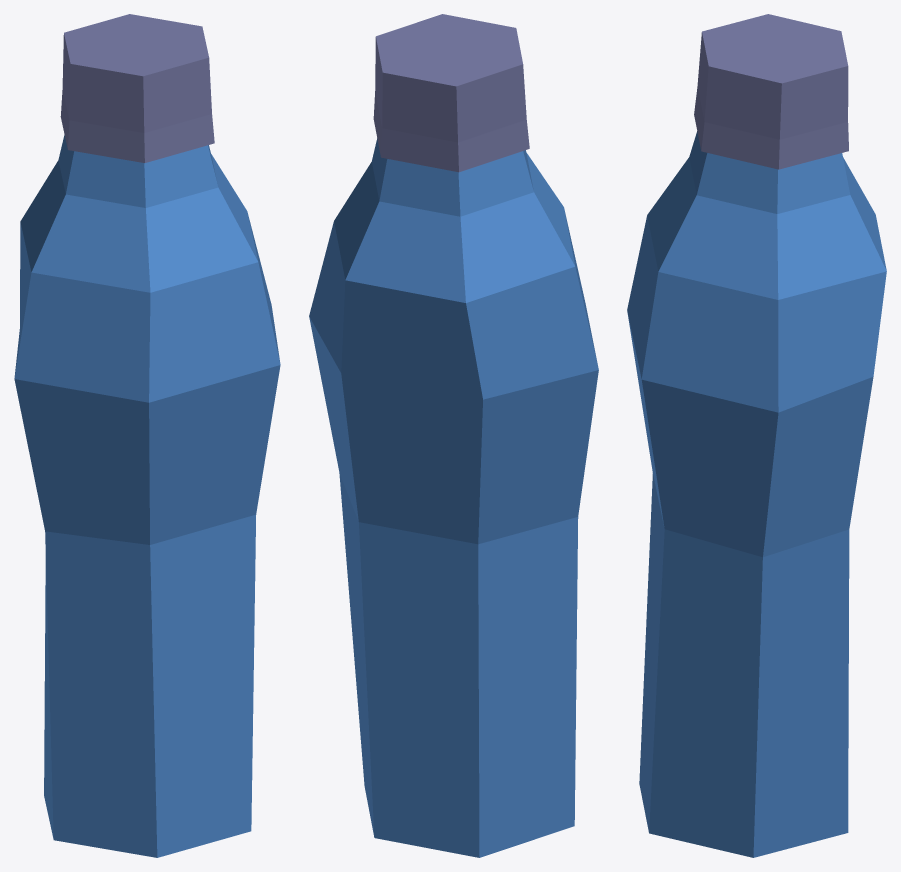
File: Bottle_15.fbx
3 views of the same model, side by side, from view 1: azimuth 30°, elevation 25°; view 2: azimuth 150°, elevation 25°; view 3: azimuth 270°, elevation 25° (orthographic).
Visible parts, largest first — view 1: Bottle_15; view 2: Bottle_15; view 3: Bottle_15.
Part boxes in pixels (<box>): Bottle_15: <box>14,14,280,857</box>; Bottle_15: <box>309,14,598,857</box>; Bottle_15: <box>627,14,886,857</box>.
Size of the model in its own units: 17.34 by 14.26 by 46.52.
